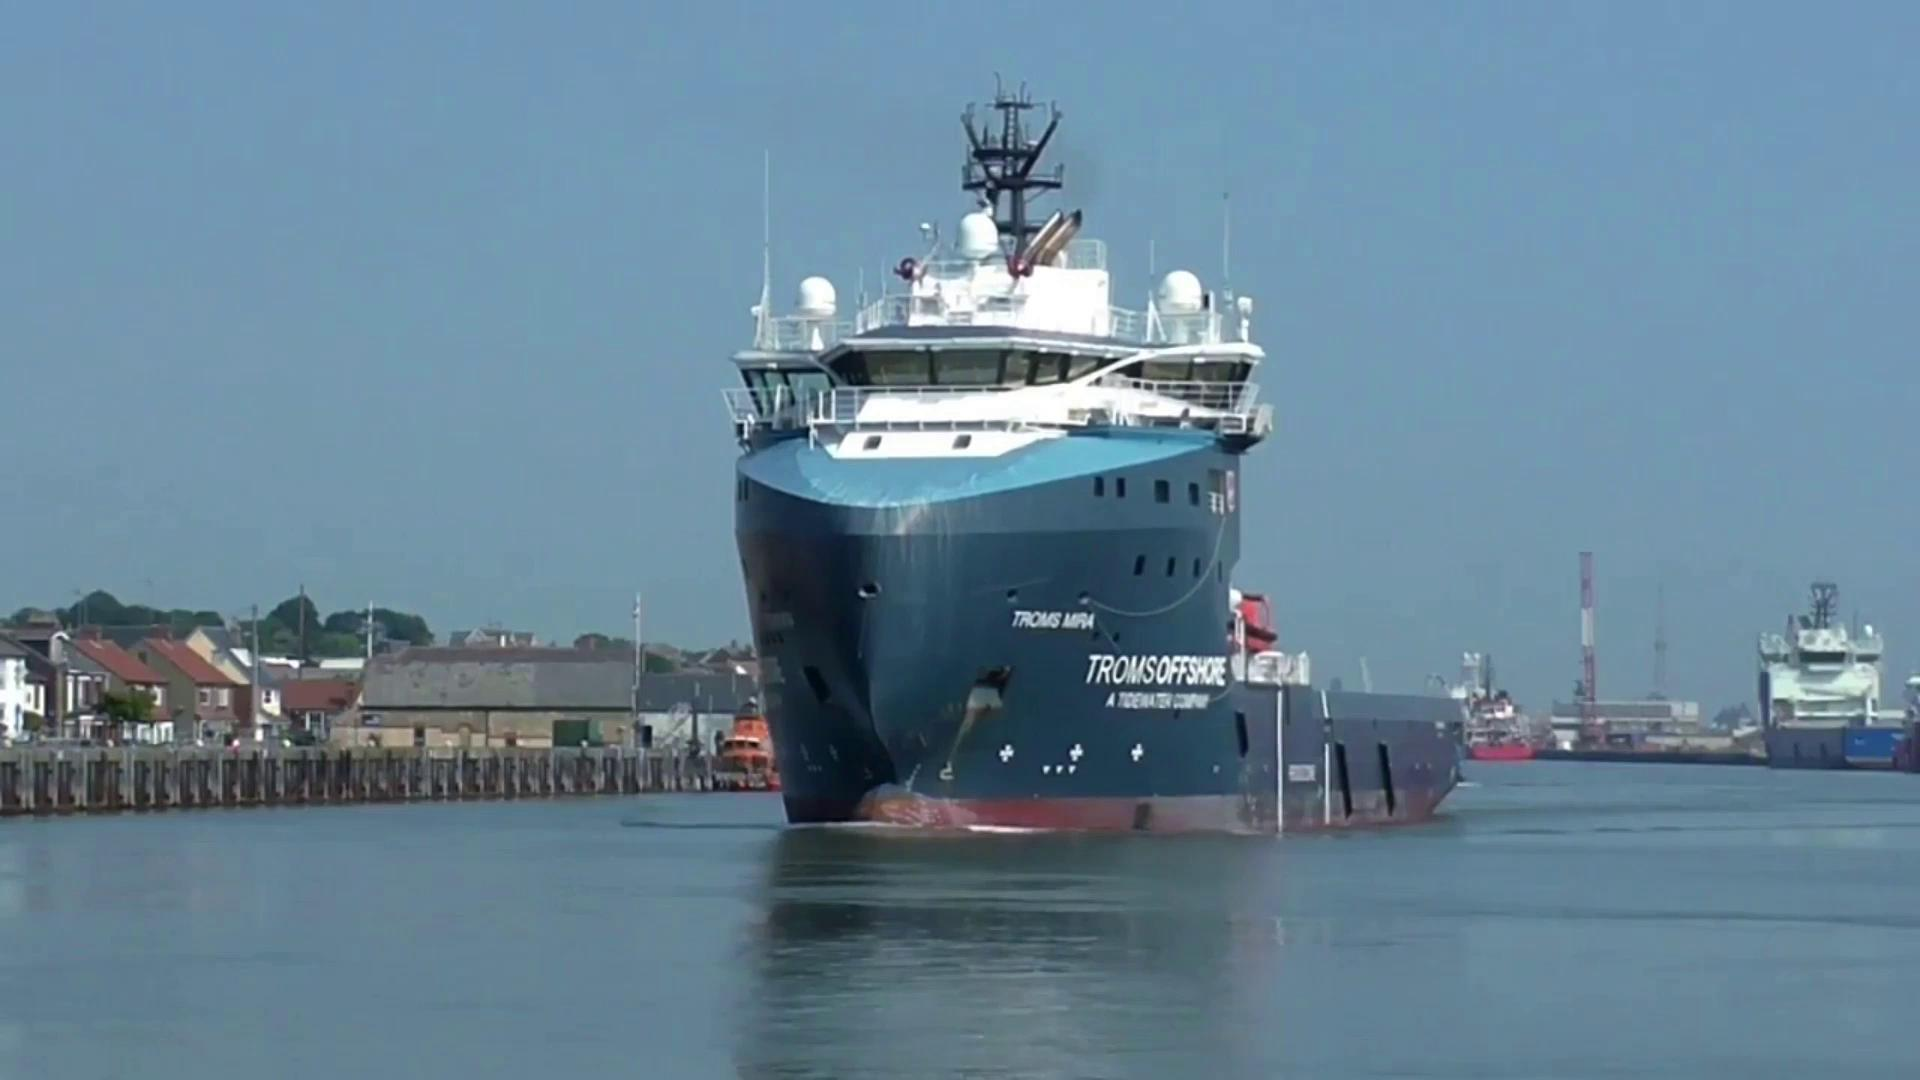OCR: (1084, 640, 1233, 698)
